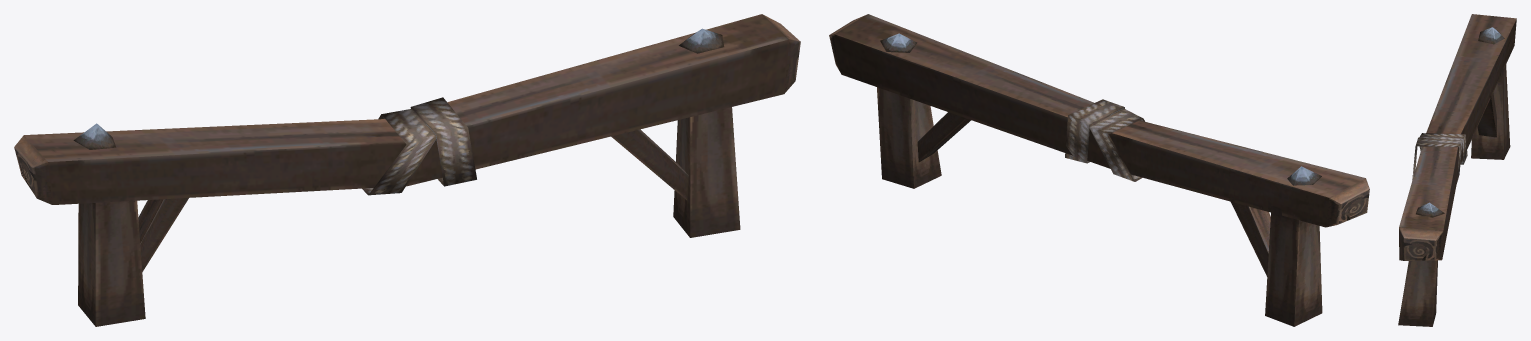
Rendered from object_wooden_fences02.fbx.
3 views of the same model, side by side, from view 1: azimuth 30°, elevation 25°; view 2: azimuth 150°, elevation 25°; view 3: azimuth 270°, elevation 25° (orthographic). The views are drawn at different scales.
Parts seen in each view (by area): view 1: object_wooden_fences02-0; view 2: object_wooden_fences02-0; view 3: object_wooden_fences02-0.
Boxes of the visible parts, x1=… form: object_wooden_fences02-0: x1=14, y1=14, x2=800, y2=326; object_wooden_fences02-0: x1=829, y1=14, x2=1369, y2=326; object_wooden_fences02-0: x1=1398, y1=14, x2=1516, y2=326.
Bounding box in the file's own units: 6.18 × 1.58 × 1.4.
